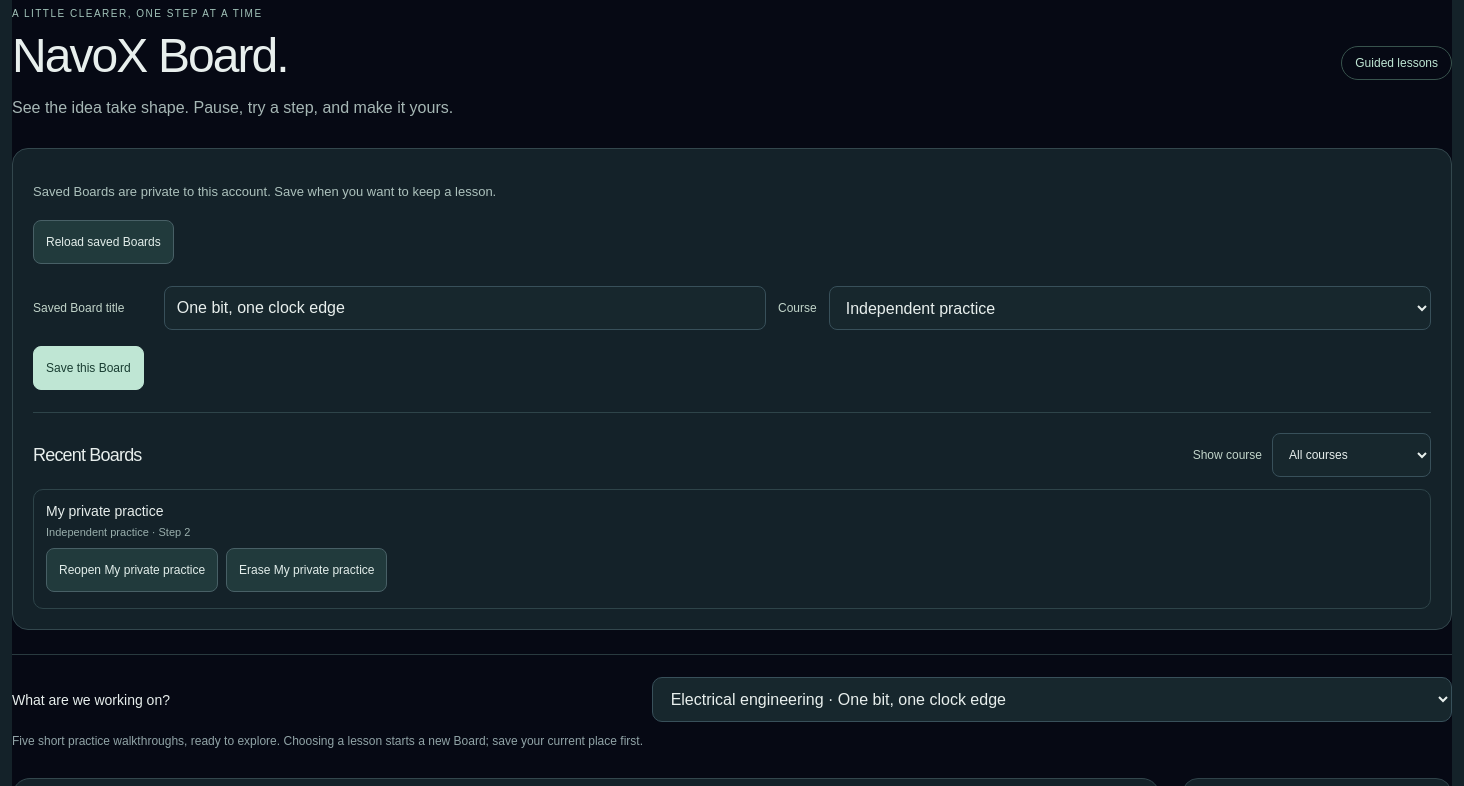
Scenario: saved Board privacy and delayed results › clears a reset generation's current private progress without creating another saved Board
Click the button "Reopen My private practice".
click(132, 570)  # box [46,548,218,592]
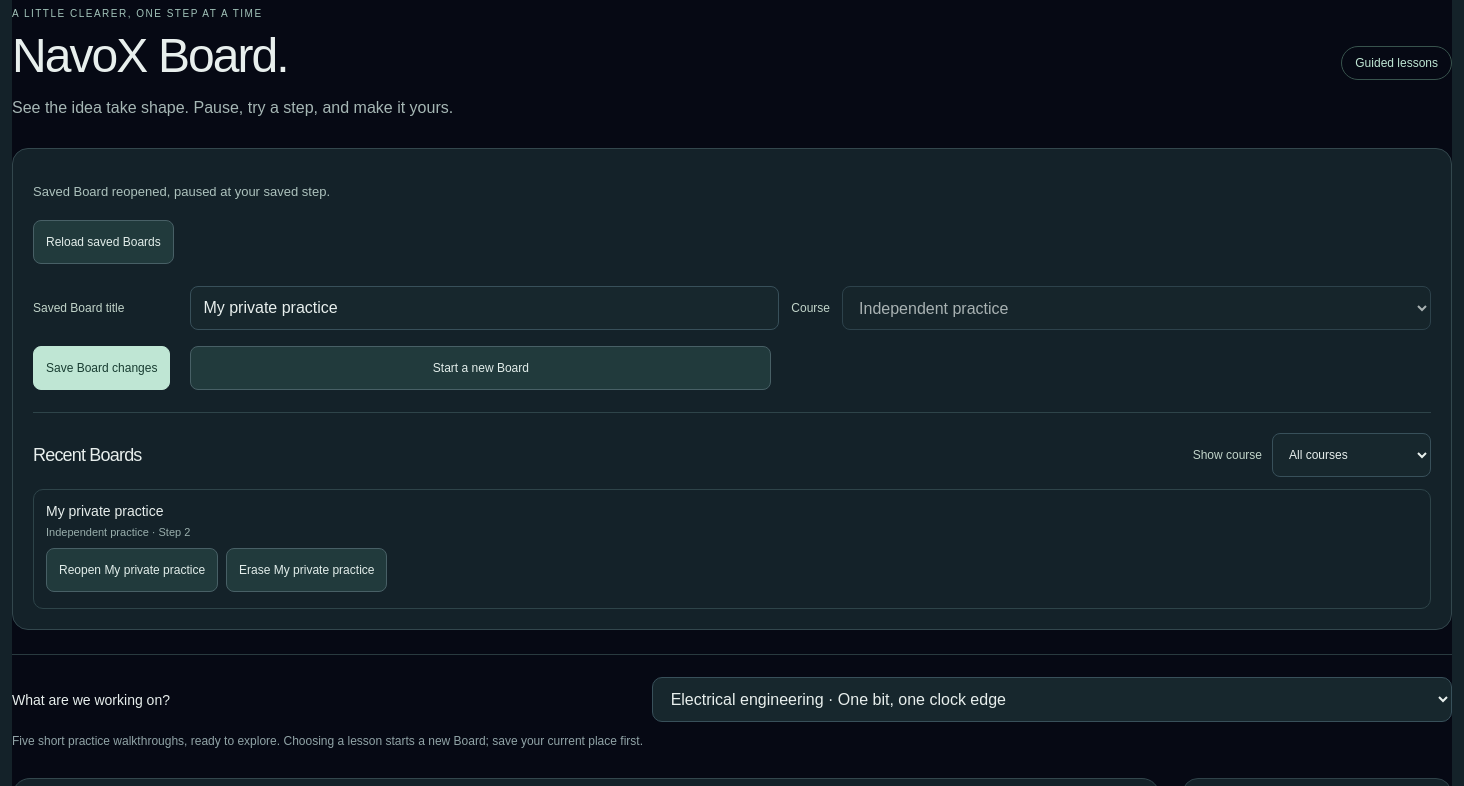
Click the button "Reload saved Boards".
click(103, 242)  # box [33,220,174,264]
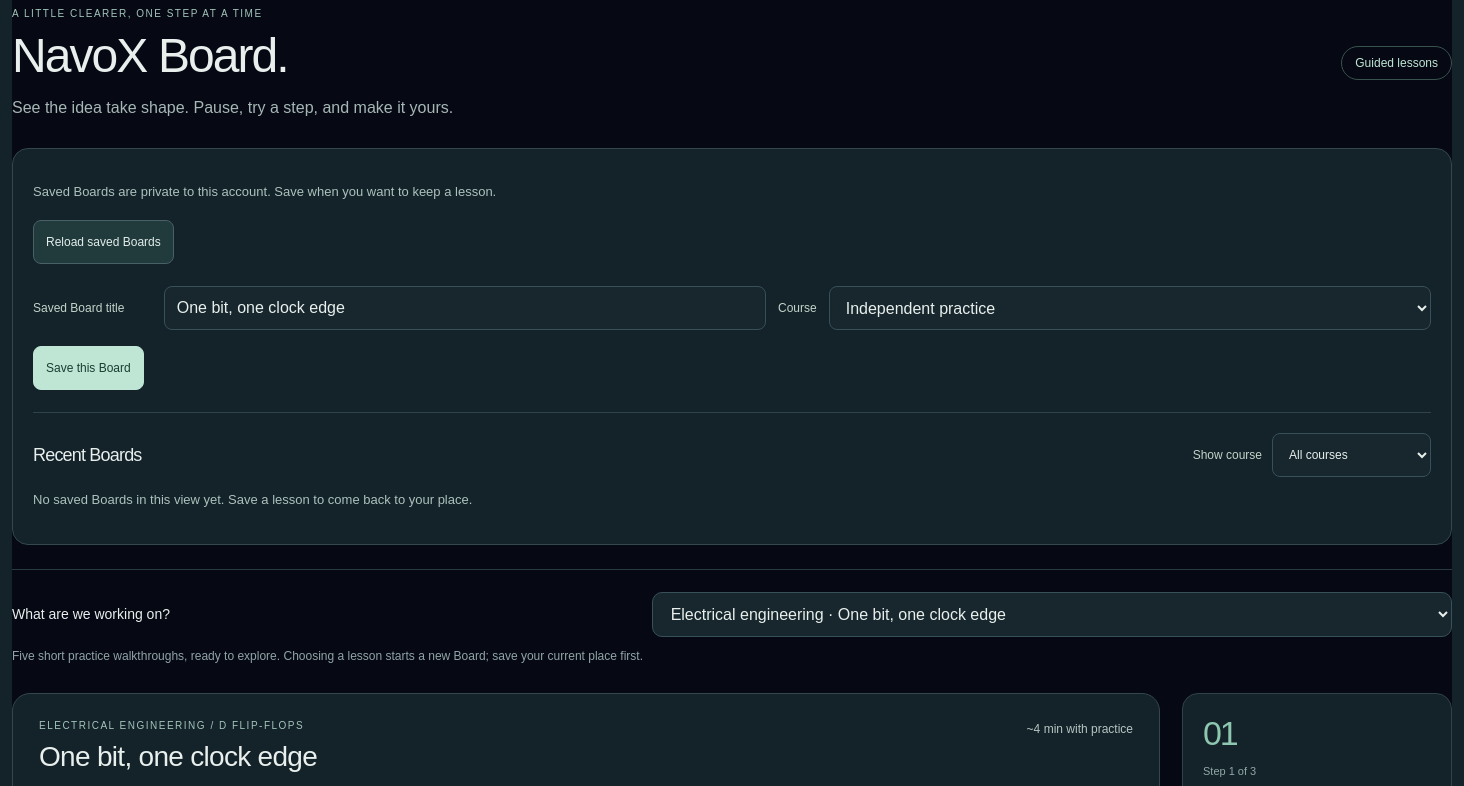
Check: the text "My private practice" is gone
